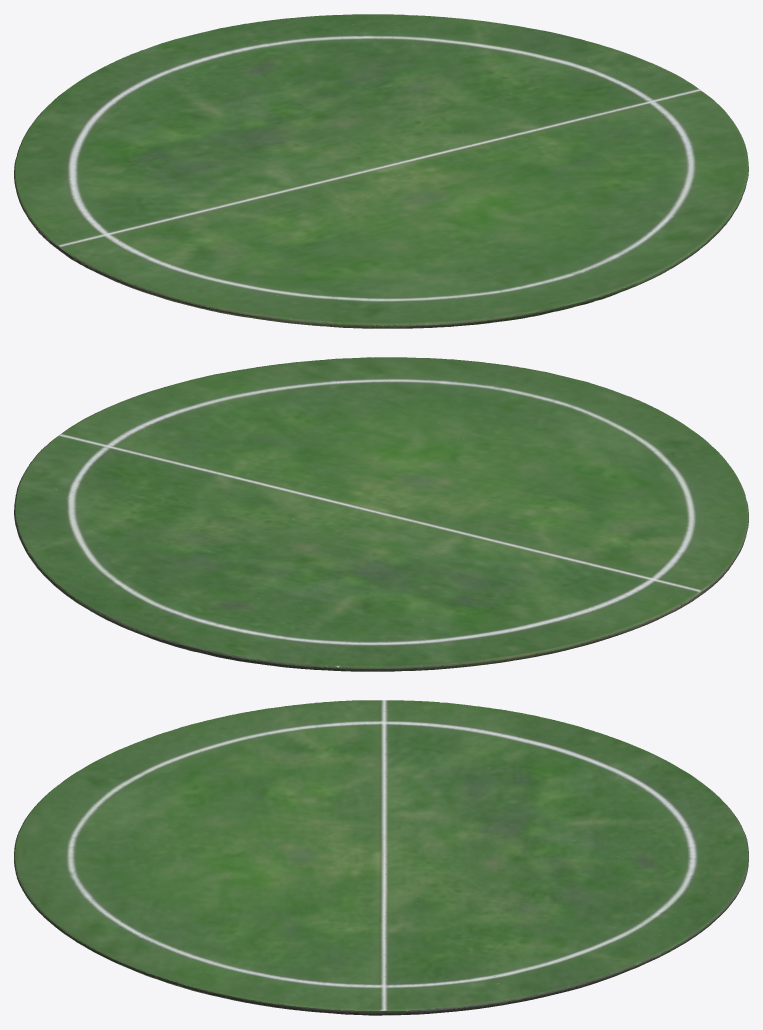
Rendered from ground.glb.
3 views of the same model, one above another, from view 1: azimuth 30°, elevation 25°; view 2: azimuth 150°, elevation 25°; view 3: azimuth 270°, elevation 25° (orthographic).
Parts seen in each view (by area): view 1: geometry_0; view 2: geometry_0; view 3: geometry_0.
Part boxes in pixels (x1,y1,x2,y2): geometry_0: (14, 14, 748, 328); geometry_0: (14, 357, 748, 671); geometry_0: (14, 700, 748, 1015).
Bounding box in the file's own units: 105 × 1.27 × 105.
Materials: 1 (1 with a texture image).
